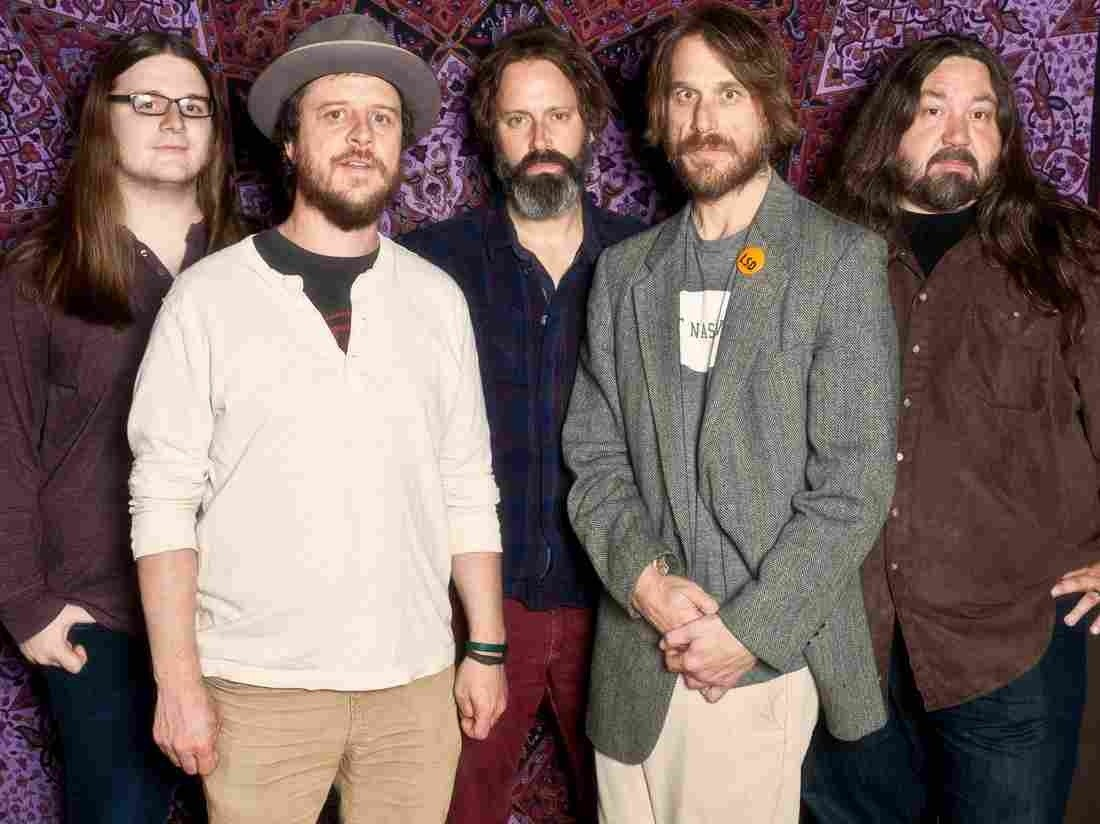face_no_mask: (642, 5, 792, 199), (864, 31, 1016, 208), (469, 28, 597, 219), (278, 54, 415, 230), (87, 31, 217, 197)
